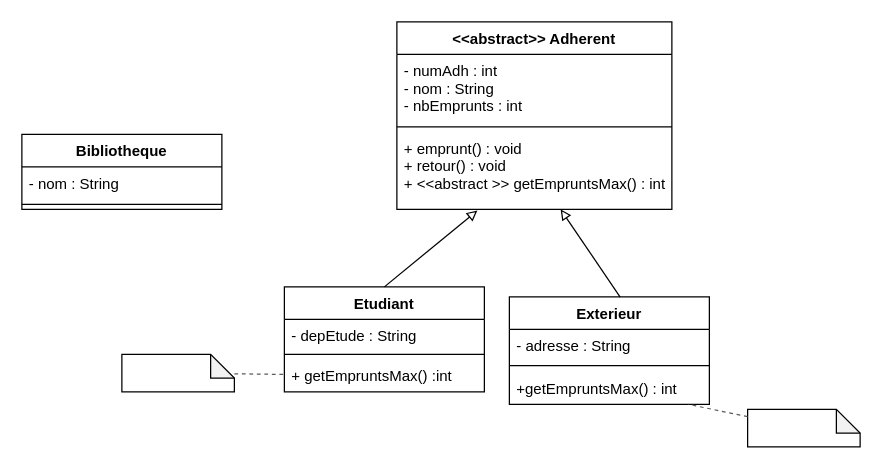
Some shapes in this 883 by 469 pixel diagram are drawn without their labels. Here are the shapes that lost their labels. From the top down, the centre of each, then its label:
the point at 177,372: return 3;
the point at 803,427: return 2;
